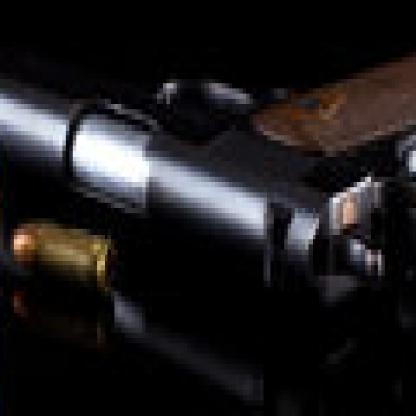gun: (0, 0, 413, 364)
